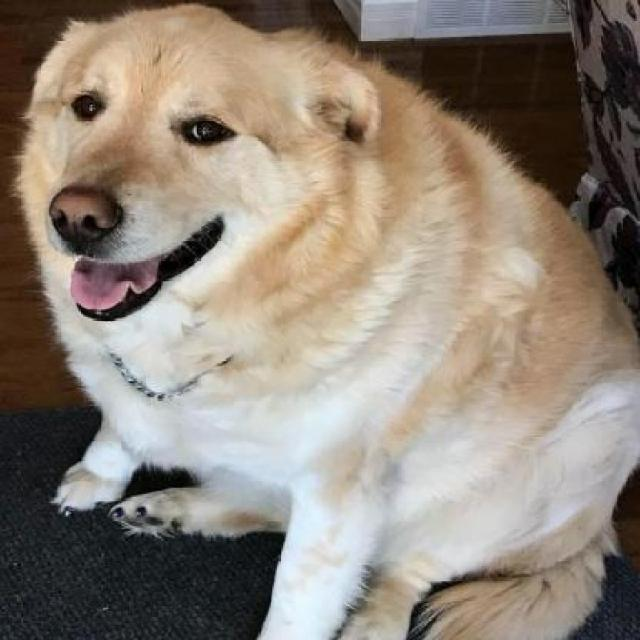Dog: (16, 6, 638, 637)
